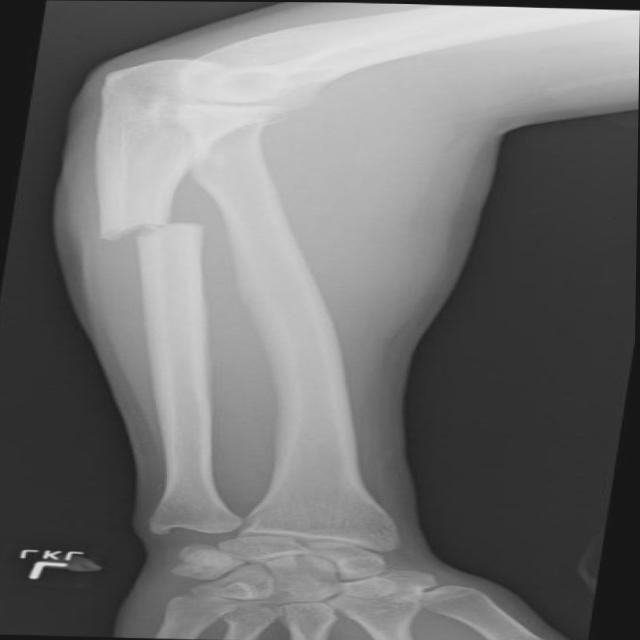Transverse Displaced: (38, 196, 222, 271)
